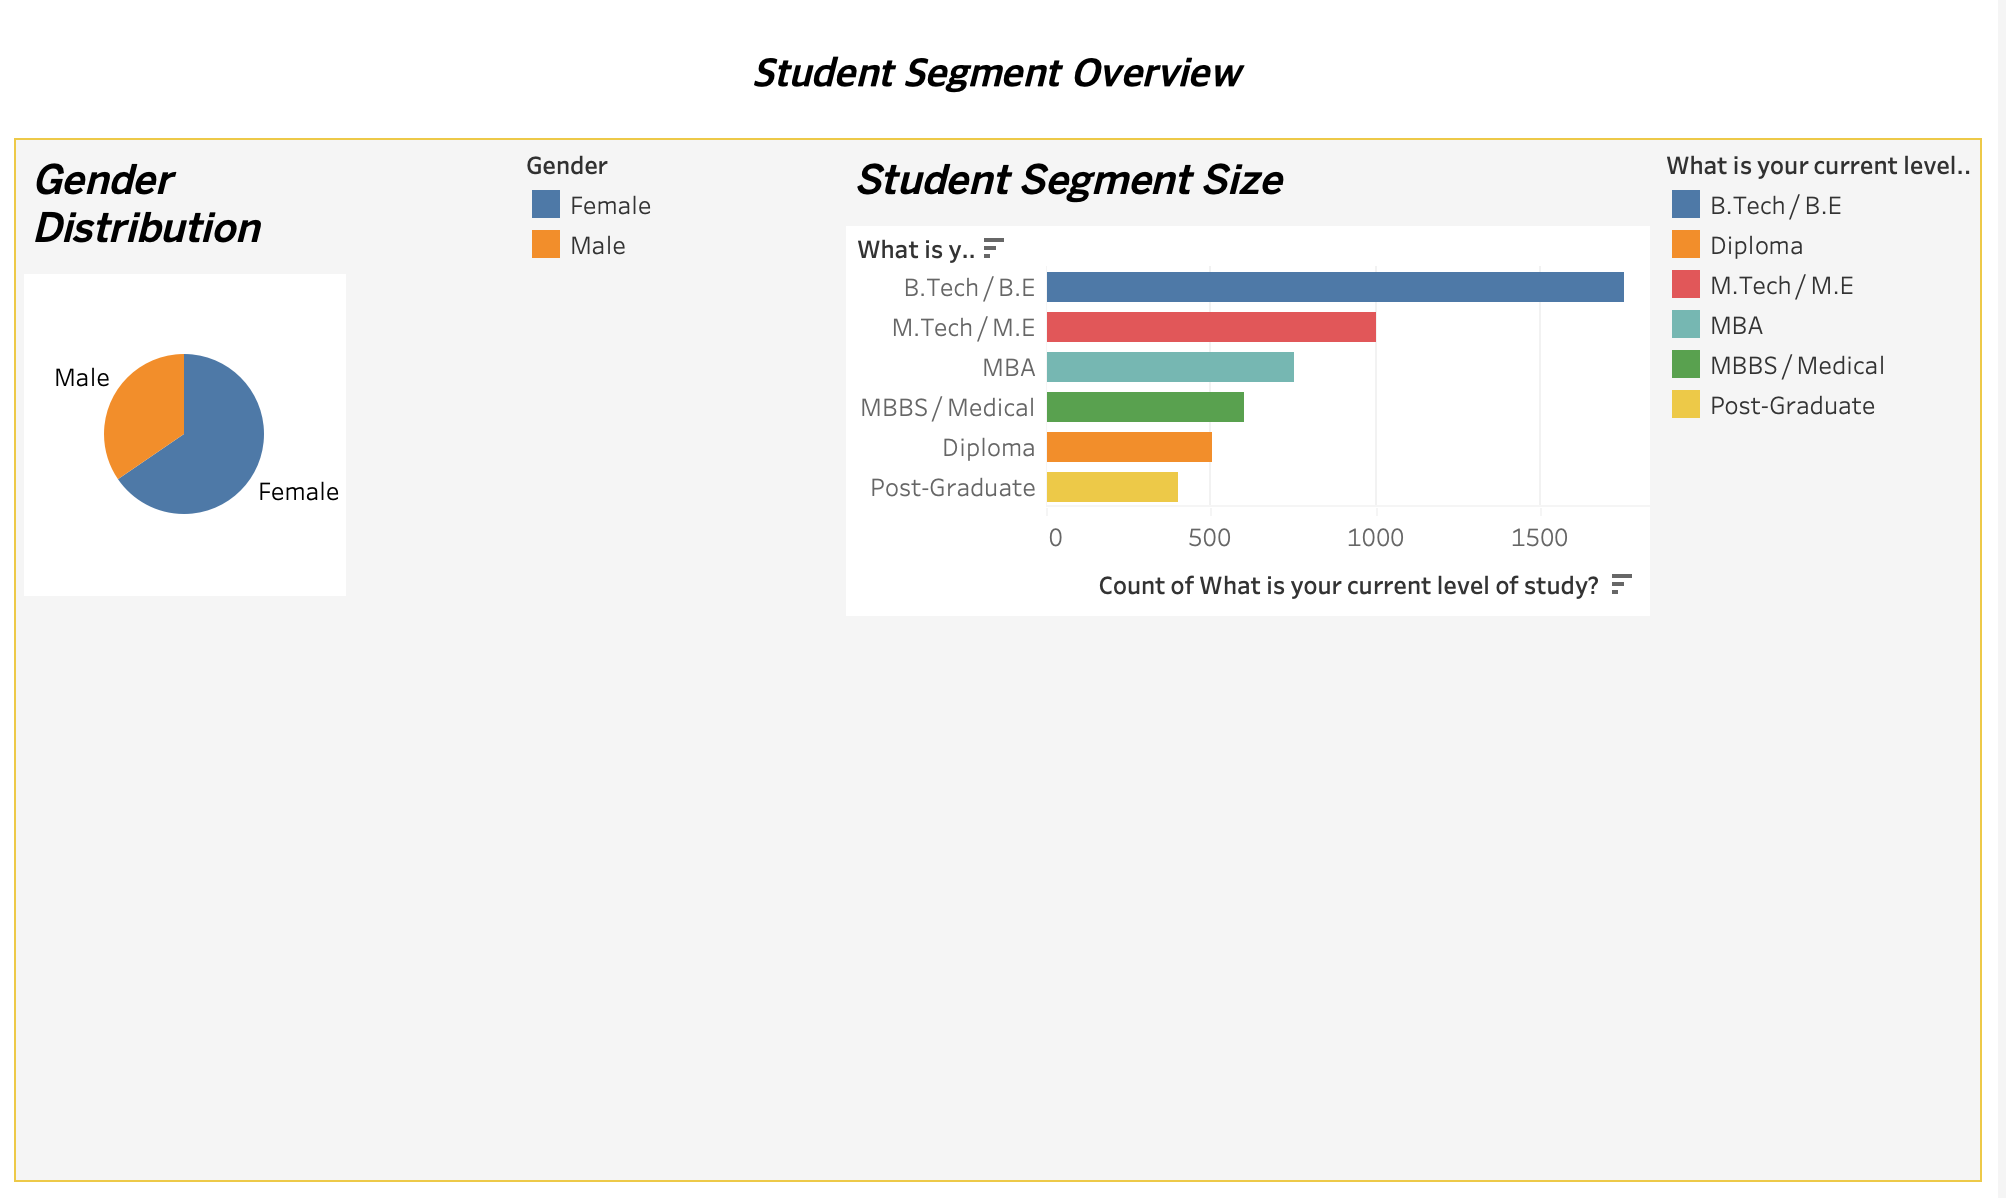

The dashboard page shown, as its layout file describes it:
{"tool":"tableau","page":{"name":"Student Segment Overview","canvas":[1000,600],"ordinal":3},"visuals":[{"type":"text","box":[8,8,984,62]},{"type":"worksheet","title":"Gender Distribution","mark":"Pie","box":[9,71,250.9,520]},{"type":"legend","title":"Gender Distribution","param":"[federated.1f0ar921e5crdw19n65z90w59u7y].[none:Gender:nk]","box":[259.9,71,159.6,520]},{"type":"worksheet","title":" Study Level Distribution","mark":"Automatic","rows":["What is your current level of study?"],"cols":["What is your current level of study?"],"box":[419.5,71,410.5,520]},{"type":"legend","title":" Study Level Distribution","param":"[federated.1f0ar921e5crdw19n65z90w59u7y].[none:What is your current level of stu","box":[830,71,161,146]}]}

Visuals, with their boxes in screenshot pixels (x1, y1, x2, y2), scaled from the page's 1000x600 canvas onto the 2006x1198 screenshot:
text: (16, 16, 1990, 140)
"Gender Distribution" worksheet (Pie marks): (18, 142, 521, 1180)
"Gender Distribution" legend: (521, 142, 842, 1180)
" Study Level Distribution" worksheet: (842, 142, 1665, 1180)
" Study Level Distribution" legend: (1665, 142, 1988, 433)
